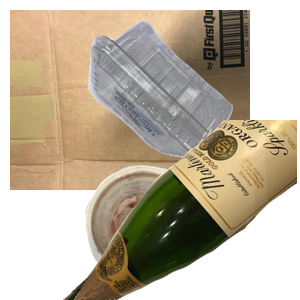cardboard: (10, 10, 250, 190)
glass: (60, 120, 300, 300)
plastic: (86, 18, 300, 171)
trash: (83, 163, 276, 300)
